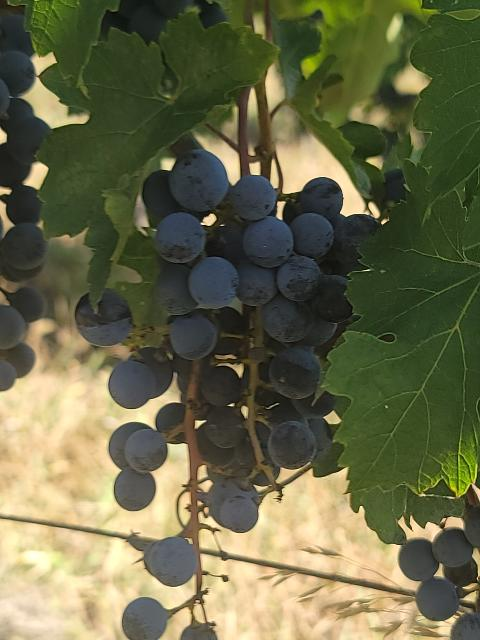grapes: (109, 131, 378, 612)
